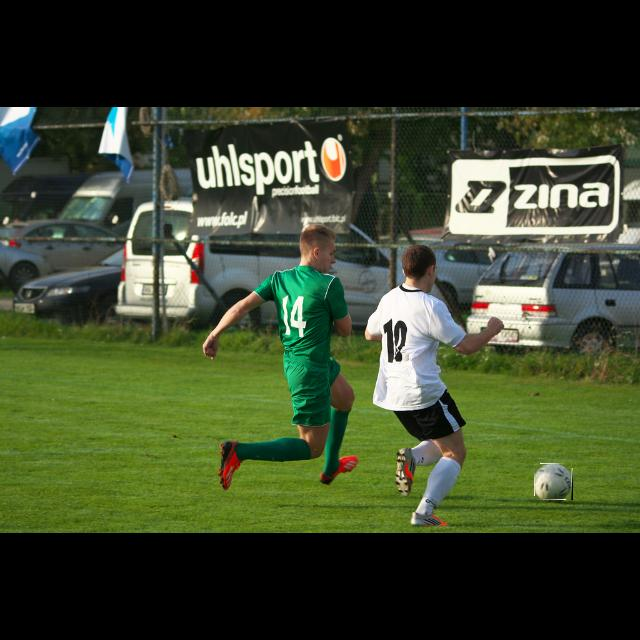Football: (535, 464, 573, 500)
